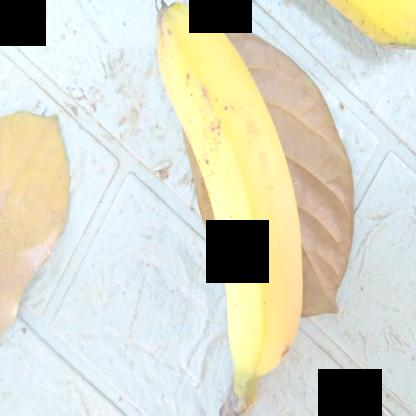ripe: (140, 1, 318, 382)
